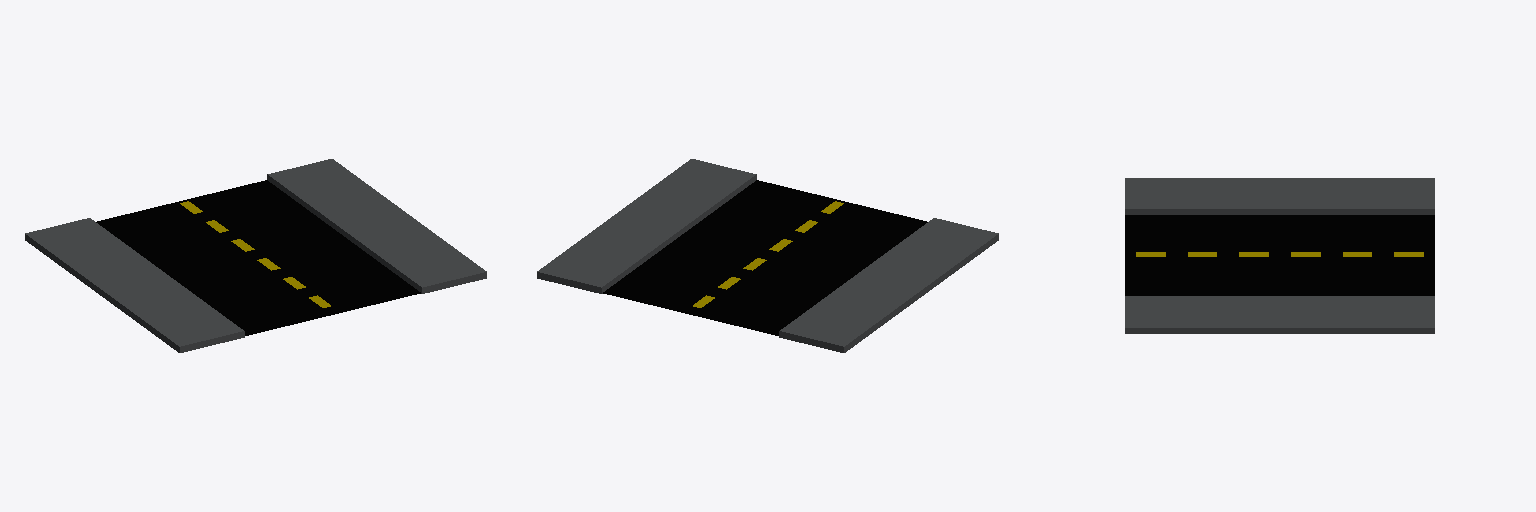
Rendered from Road.obj.
3 renders of one model, left to right at view 1: azimuth 30°, elevation 25°; view 2: azimuth 150°, elevation 25°; view 3: azimuth 270°, elevation 25°, orthographic.
Visible parts, largest first — view 1: Mesh.001_Mesh.005_Cube.001_Cube.007, Mesh.002_Mesh.002_Cube.001_Cube.004, Mesh.005_Mesh.004_Cube.001_Cube.006, Mesh.004_Mesh.003_Cube.001_Cube.005, Mesh_Mesh.006_Cube.001_Cube.008, Mesh.003_Mesh.000_Cube.001_Cube.002; view 2: Mesh.002_Mesh.002_Cube.001_Cube.004, Mesh.001_Mesh.005_Cube.001_Cube.007, Mesh.004_Mesh.003_Cube.001_Cube.005, Mesh.005_Mesh.004_Cube.001_Cube.006, Mesh.003_Mesh.000_Cube.001_Cube.002, Mesh_Mesh.006_Cube.001_Cube.008; view 3: Mesh.005_Mesh.004_Cube.001_Cube.006, Mesh.004_Mesh.003_Cube.001_Cube.005, Mesh.002_Mesh.002_Cube.001_Cube.004, Mesh.001_Mesh.005_Cube.001_Cube.007, Mesh.003_Mesh.000_Cube.001_Cube.002, Mesh_Mesh.006_Cube.001_Cube.008.
Part boxes in pixels (left/top/right/bottom): Mesh.001_Mesh.005_Cube.001_Cube.007: left=154, top=253, right=486, bottom=352; Mesh.002_Mesh.002_Cube.001_Cube.004: left=25, top=159, right=357, bottom=258; Mesh.005_Mesh.004_Cube.001_Cube.006: left=102, top=215, right=434, bottom=314; Mesh.004_Mesh.003_Cube.001_Cube.005: left=76, top=196, right=408, bottom=295; Mesh_Mesh.006_Cube.001_Cube.008: left=128, top=234, right=460, bottom=333; Mesh.003_Mesh.000_Cube.001_Cube.002: left=51, top=178, right=382, bottom=276; Mesh.002_Mesh.002_Cube.001_Cube.004: left=537, top=253, right=869, bottom=352; Mesh.001_Mesh.005_Cube.001_Cube.007: left=666, top=159, right=998, bottom=258; Mesh.004_Mesh.003_Cube.001_Cube.005: left=589, top=215, right=921, bottom=314; Mesh.005_Mesh.004_Cube.001_Cube.006: left=615, top=196, right=947, bottom=295; Mesh.003_Mesh.000_Cube.001_Cube.002: left=563, top=234, right=895, bottom=333; Mesh_Mesh.006_Cube.001_Cube.008: left=641, top=178, right=972, bottom=276; Mesh.005_Mesh.004_Cube.001_Cube.006: left=1228, top=178, right=1279, bottom=333; Mesh.004_Mesh.003_Cube.001_Cube.005: left=1280, top=178, right=1331, bottom=333; Mesh.002_Mesh.002_Cube.001_Cube.004: left=1383, top=178, right=1434, bottom=333; Mesh.001_Mesh.005_Cube.001_Cube.007: left=1125, top=178, right=1176, bottom=333; Mesh.003_Mesh.000_Cube.001_Cube.002: left=1332, top=178, right=1382, bottom=333; Mesh_Mesh.006_Cube.001_Cube.008: left=1177, top=178, right=1227, bottom=333.
Size of the model in its own units: 13.77 by 0.284 by 12.